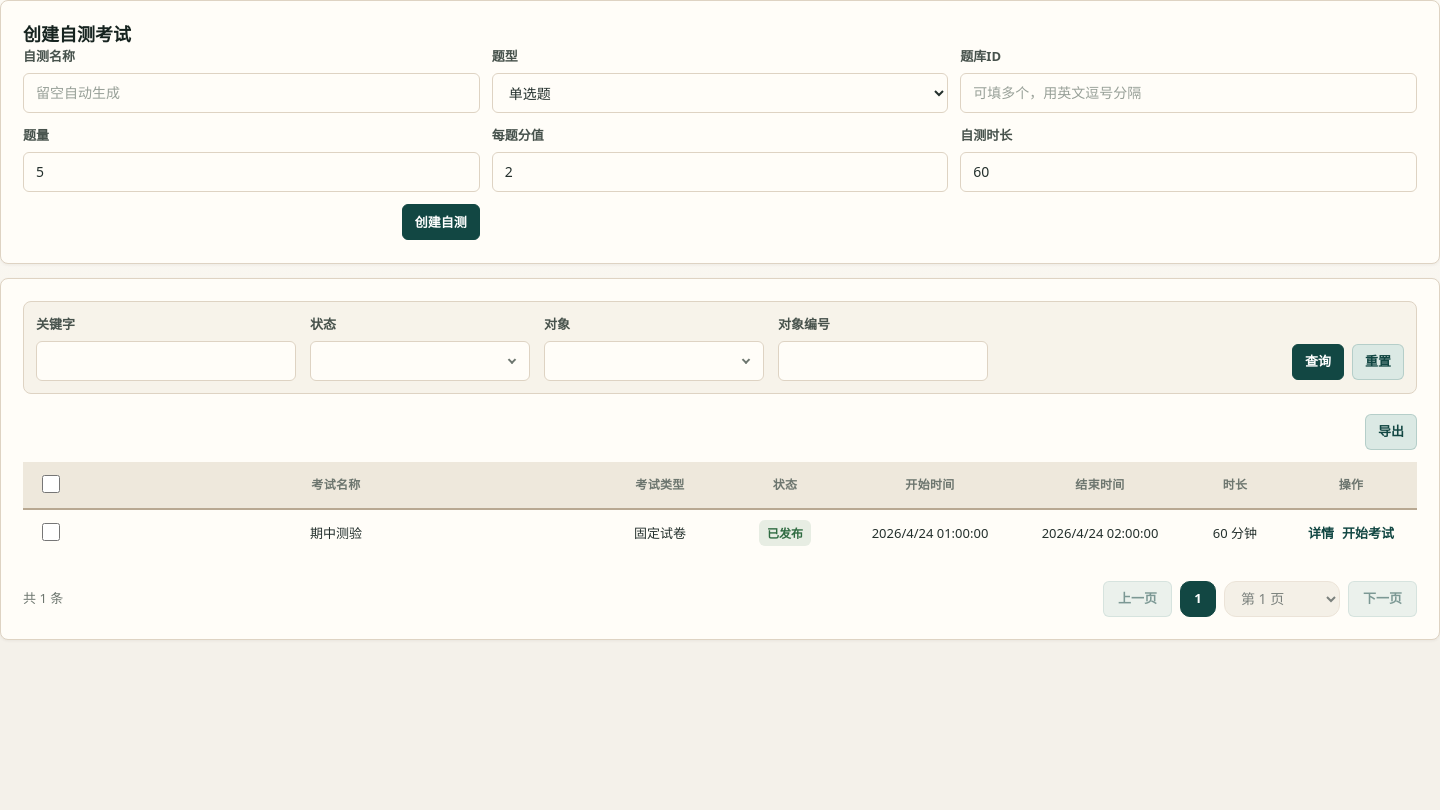
StudentExamPage › keeps current answer and allows retry when save or submit fails
The image size is (1440, 810).
Expected: the text "期中测验" is shown, [77,509,595,557]
Click the button "开始考试": (1368, 533) [1342,523,1394,544]
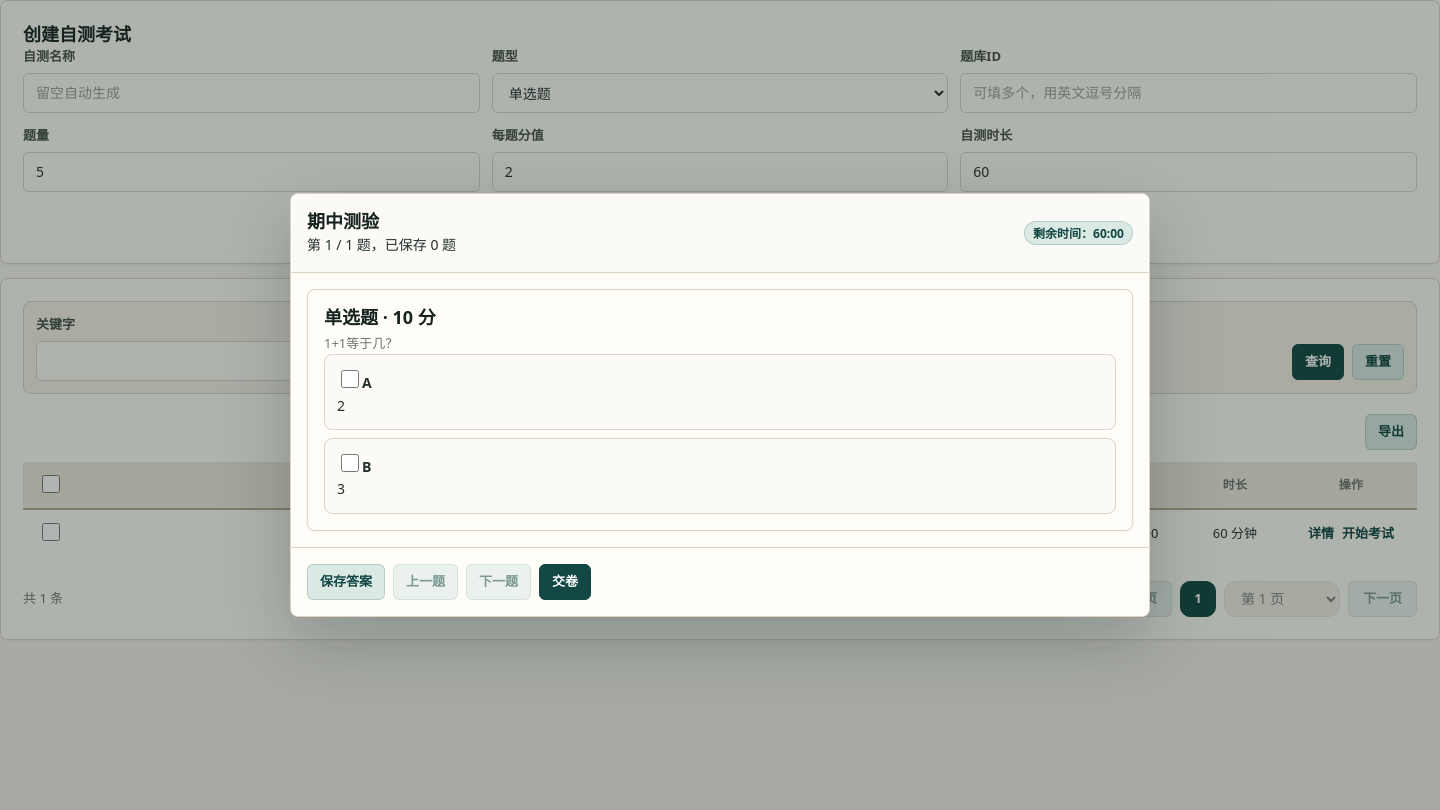
Expected: the text "1+1等于几？" is shown, [324,334,398,352]
Click the label named "选项 A": (350, 379) [324,354,1116,430]
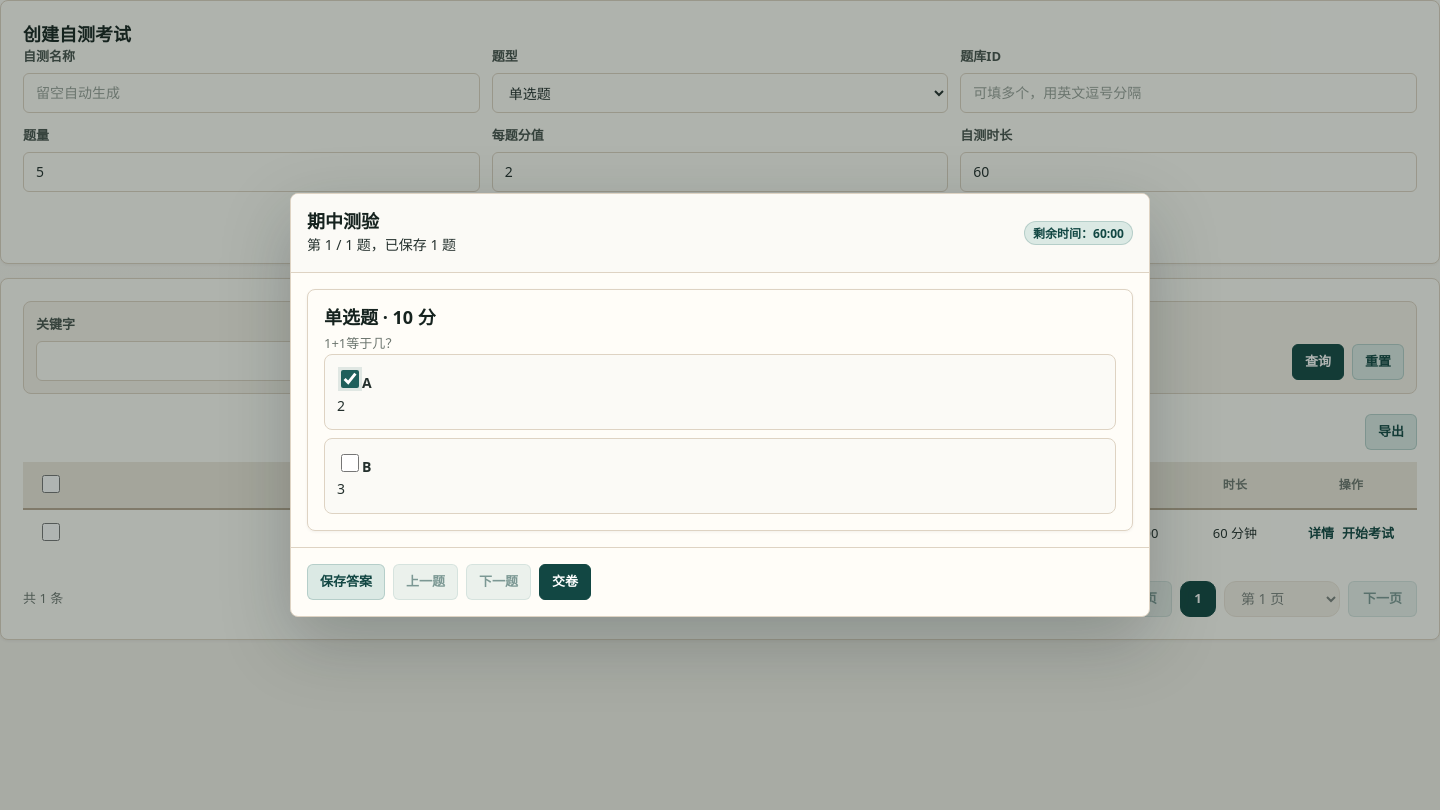
Click the button "保存答案": (346, 582) [307,564,385,600]
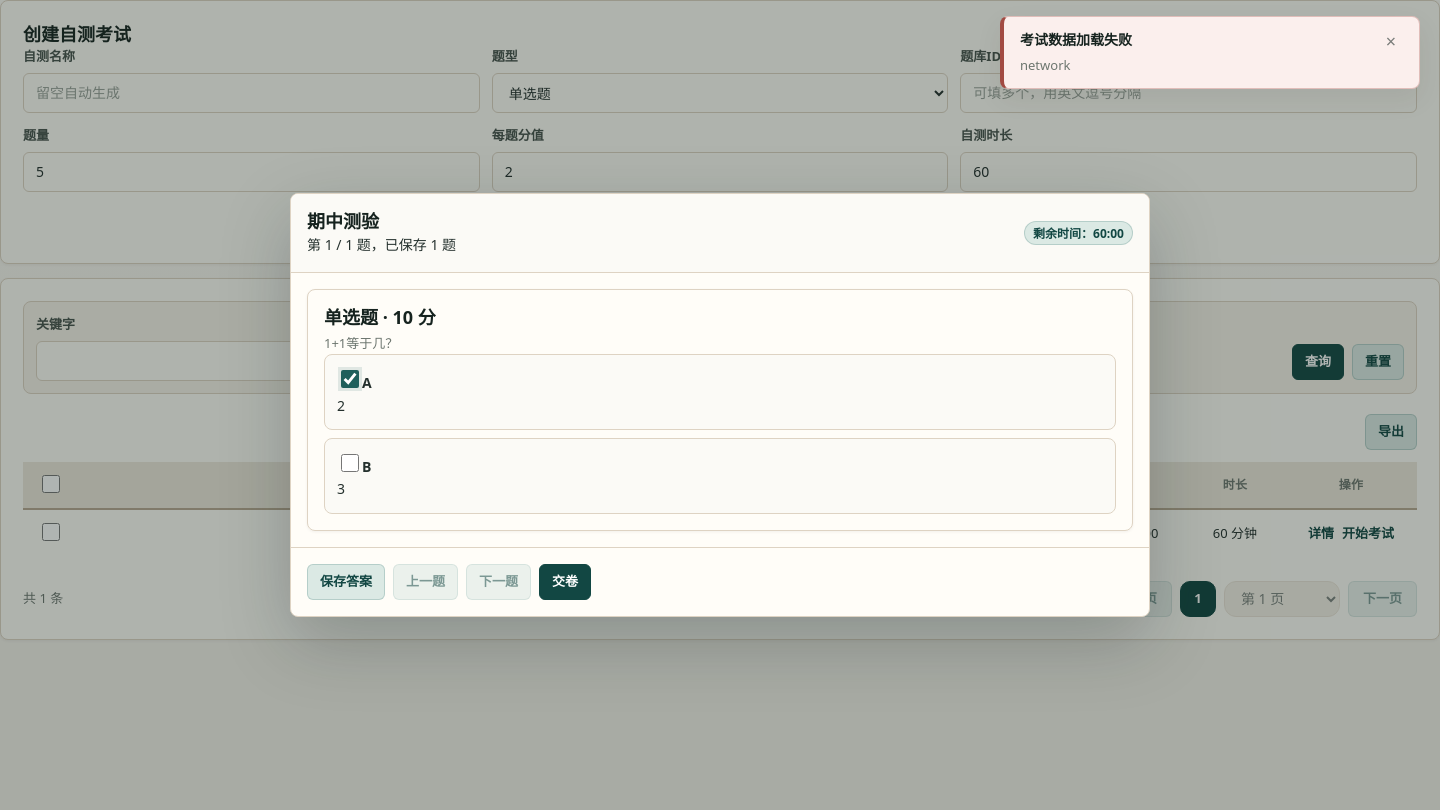
Expected: the checkbox labelled "A 2" is checked, [341,370,359,388]
Expected: the text "network" is shown, [1020,56,1070,74]
Click the button "保存答案": (346, 582) [307,564,385,600]
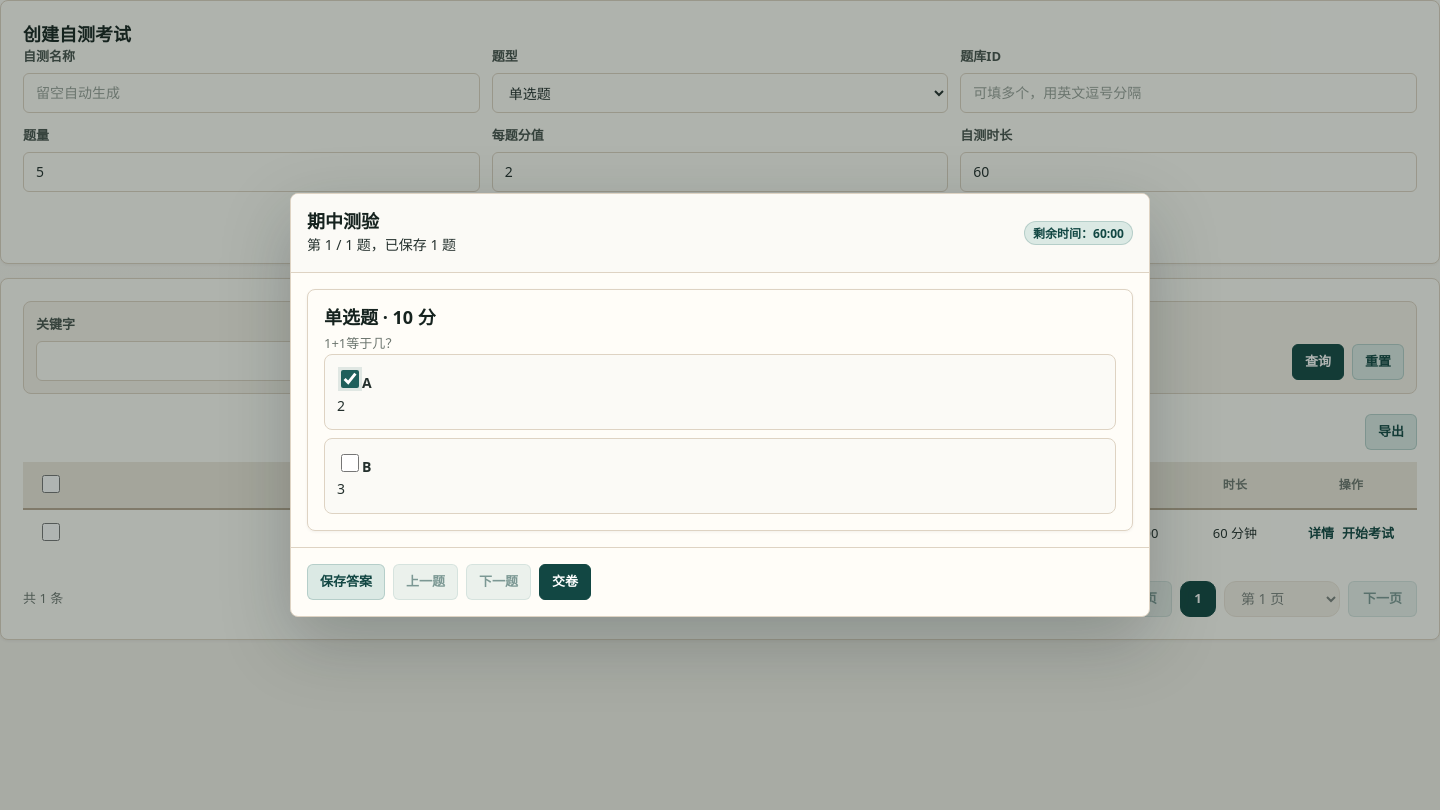
Click the button "交卷": (565, 582) [539,564,591,600]
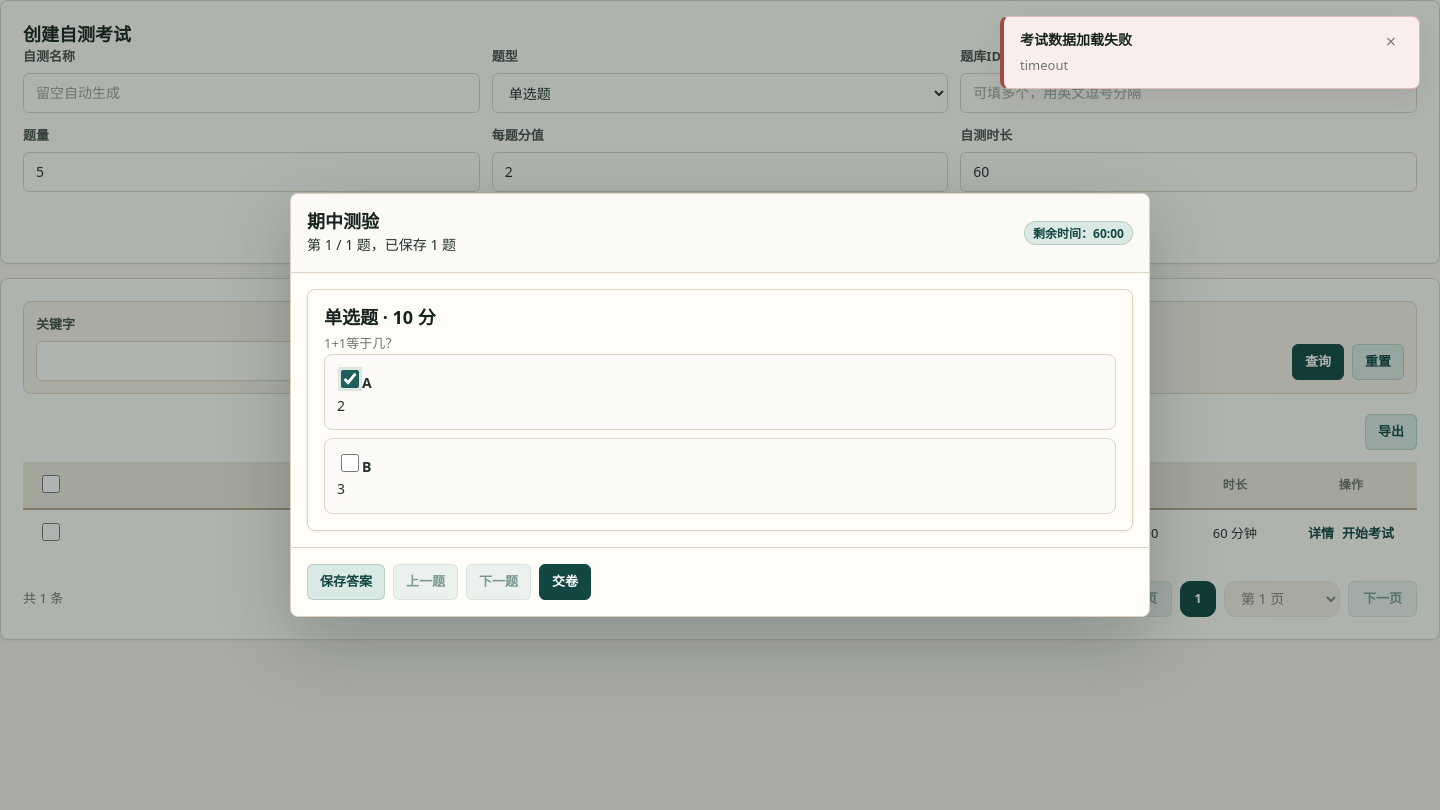
Expected: the text "1+1等于几？" is shown, [324,334,398,352]
Expected: the text "timeout" is shown, [1020,56,1068,74]
Click the button "交卷": (565, 582) [539,564,591,600]
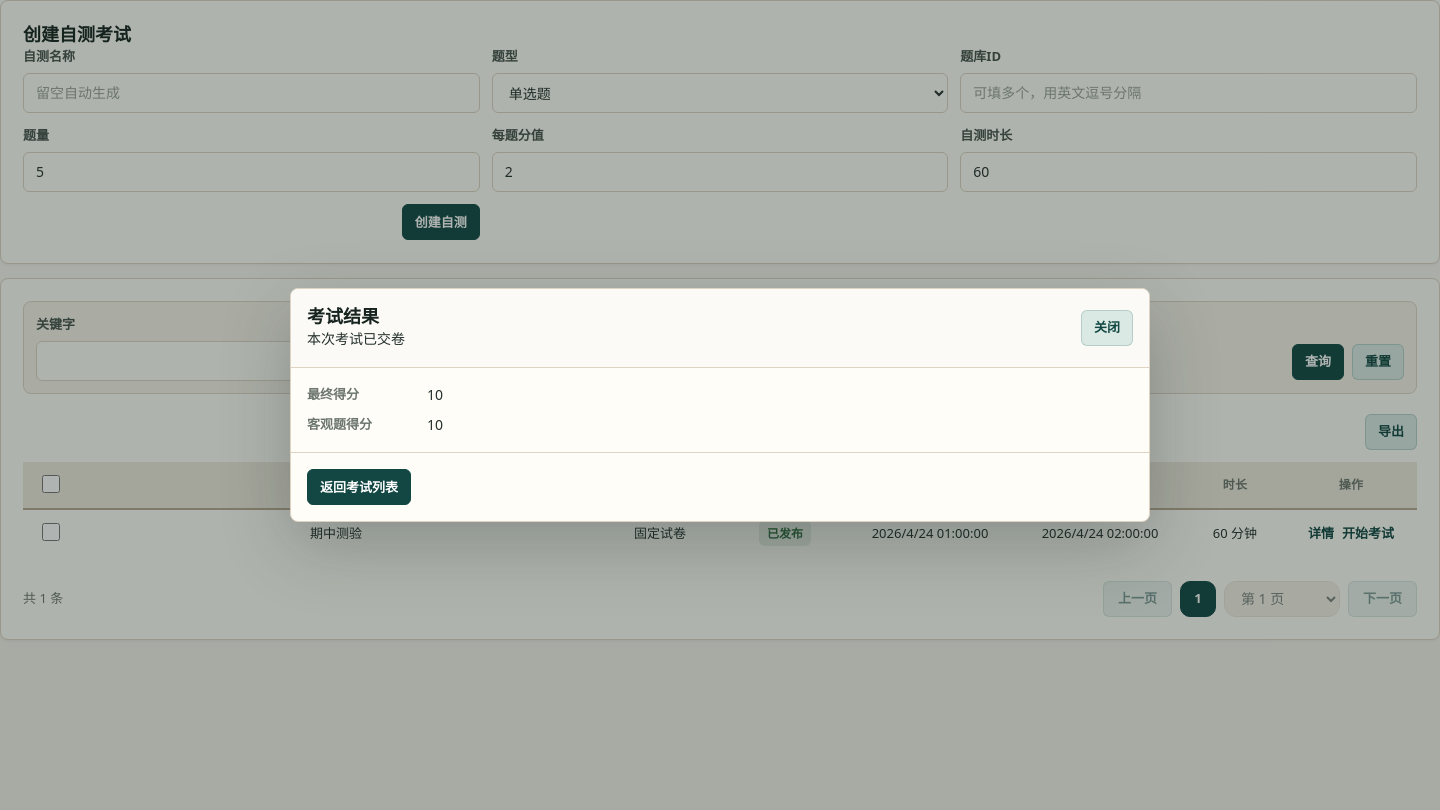
Expected: the heading "考试结果" is shown, [307,304,379,328]
